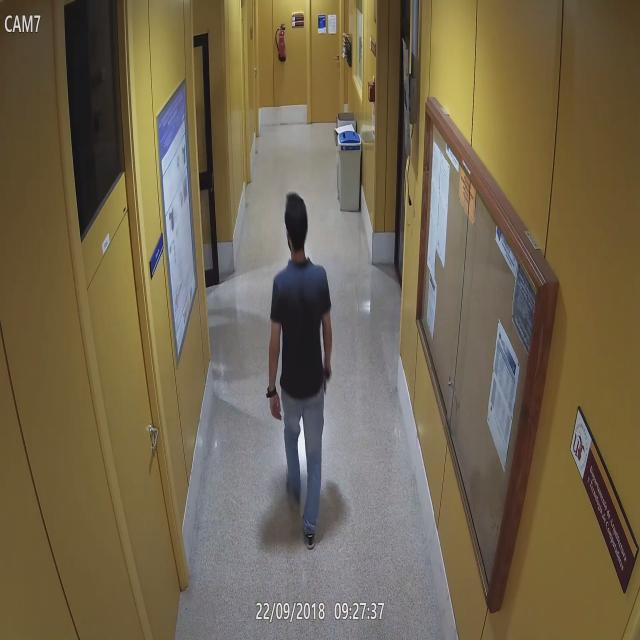Gun: (322, 365, 333, 394)
